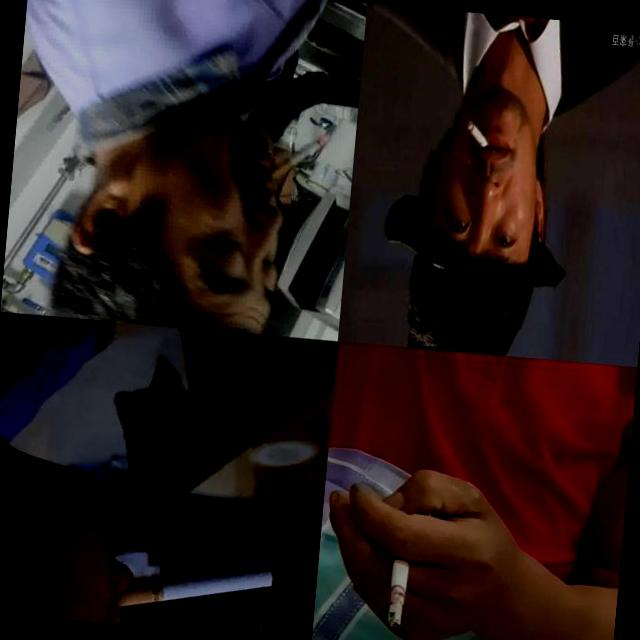cigarette: (116, 554, 276, 620), (266, 128, 330, 189), (386, 540, 412, 628), (464, 119, 494, 154)
